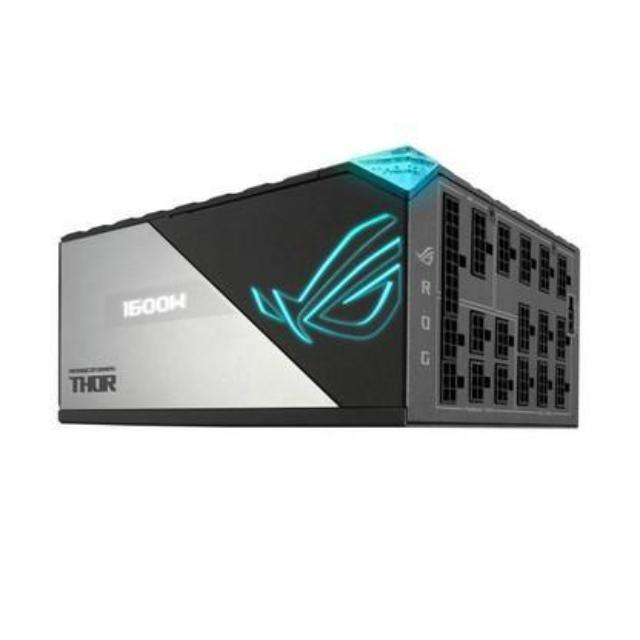PSU: (48, 135, 592, 463)
